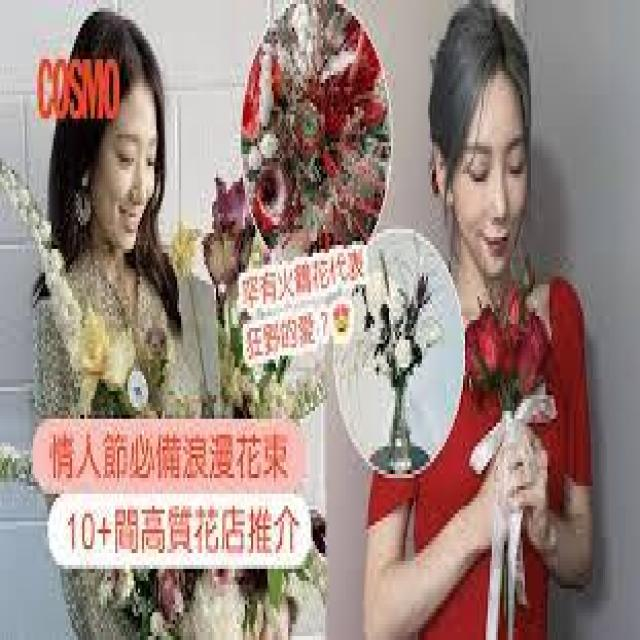organic waste: (264, 28, 368, 225), (465, 292, 550, 399), (381, 271, 432, 381), (197, 186, 256, 256)
